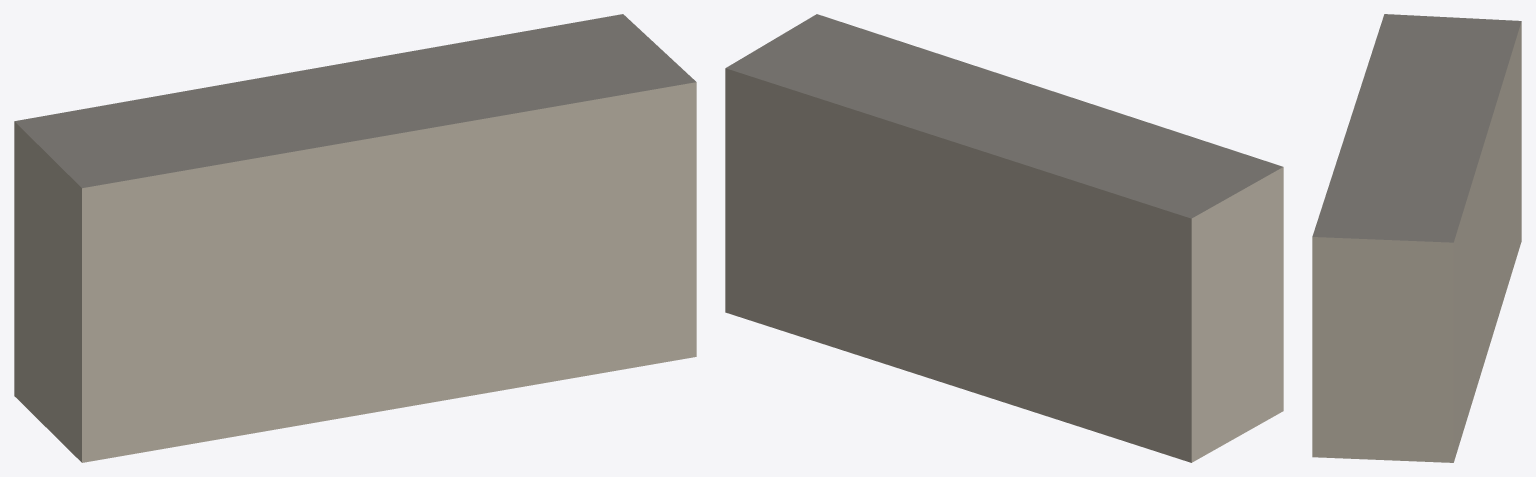
The picture shows the model from 3 angles, left to right: view 1: azimuth 30°, elevation 25°; view 2: azimuth 150°, elevation 25°; view 3: azimuth 270°, elevation 25°; orthographic projection. The views are drawn at different scales.
Visible parts, largest first — view 1: HP-w505643555; view 2: HP-w505643555; view 3: HP-w505643555.
Part boxes in pixels (x1,y1,x2,y2): HP-w505643555: [14, 14, 696, 462]; HP-w505643555: [725, 14, 1283, 462]; HP-w505643555: [1312, 14, 1521, 462].
Bounding box in the file's own units: 33.39 × 15 × 12.92.
